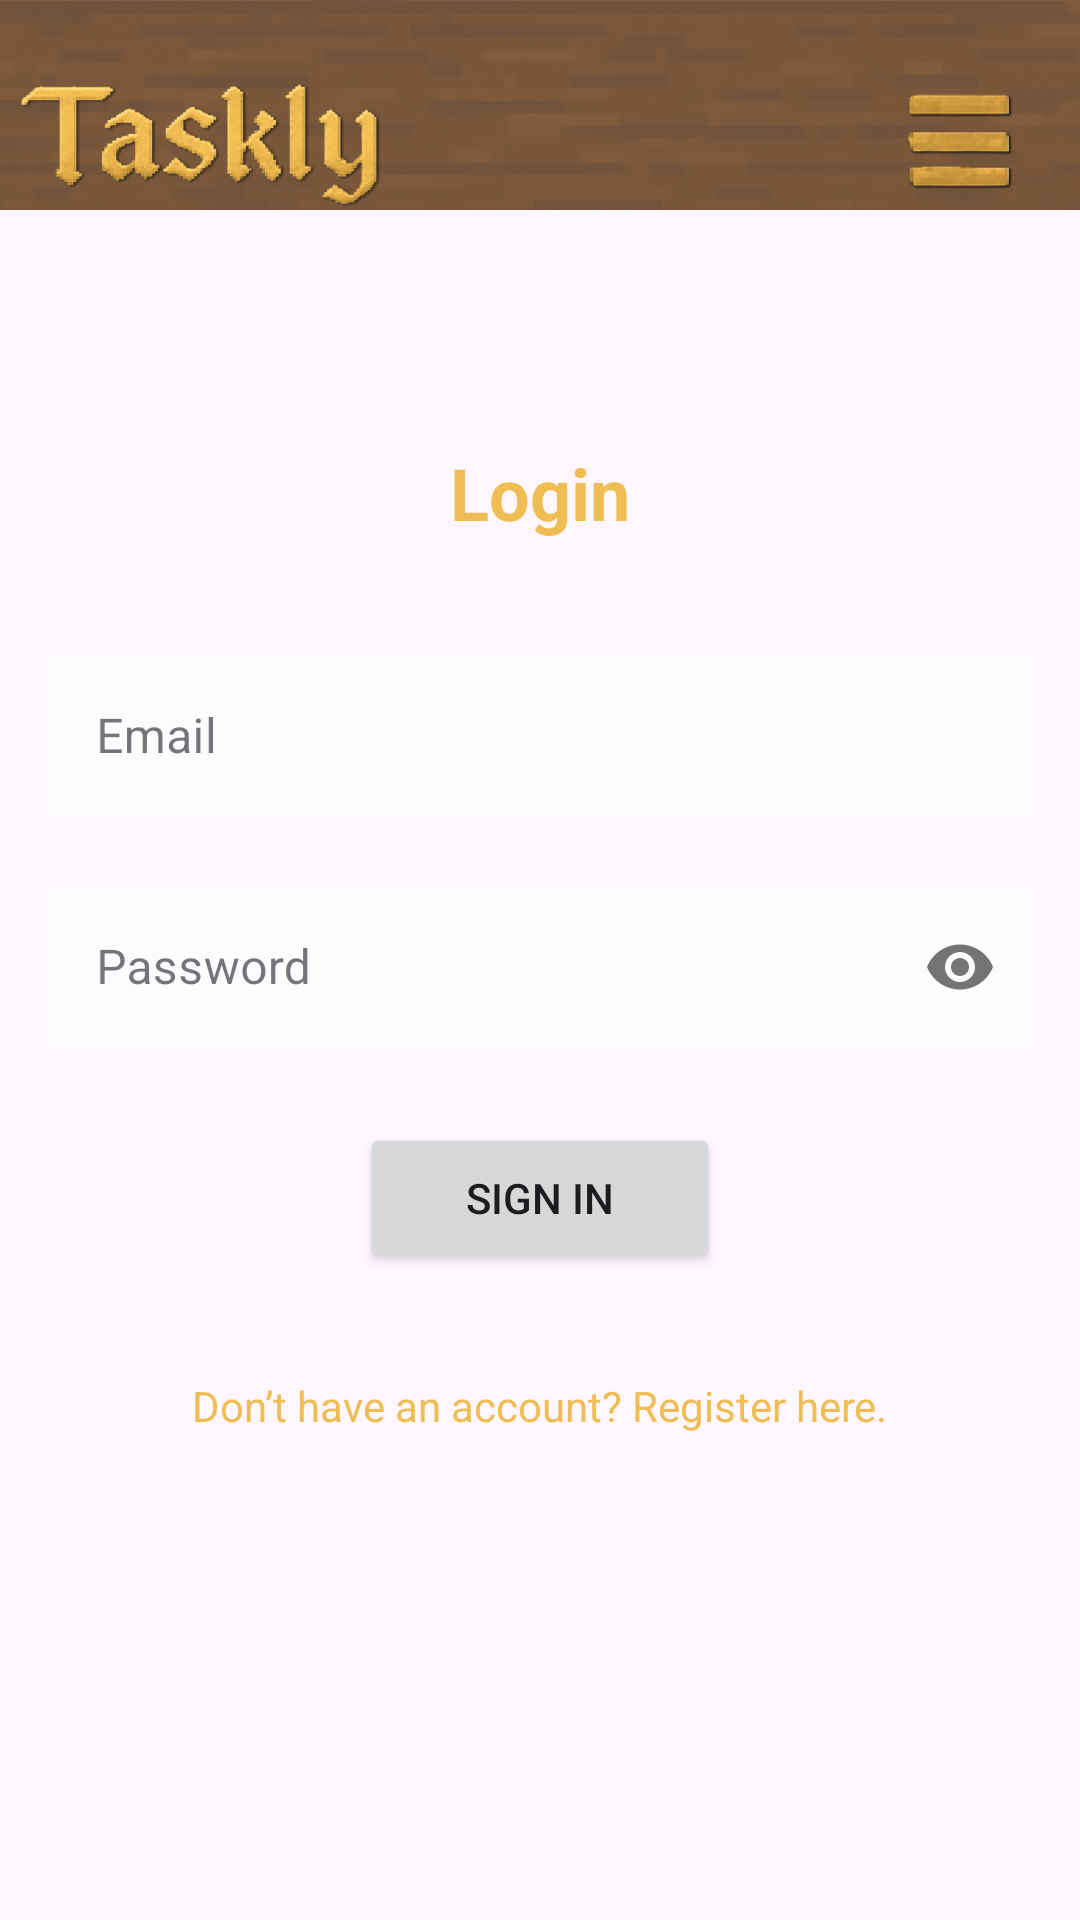

Icon bounding boxes for this 1080 × 1920 phone screenshot, format (x1, y1, x2, y2):
menu: (908, 94, 1012, 188)
